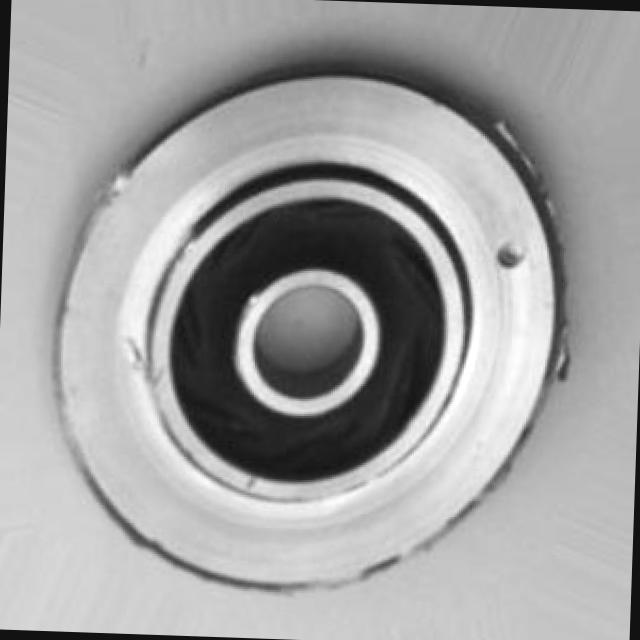Defect: (492, 238, 524, 272)
